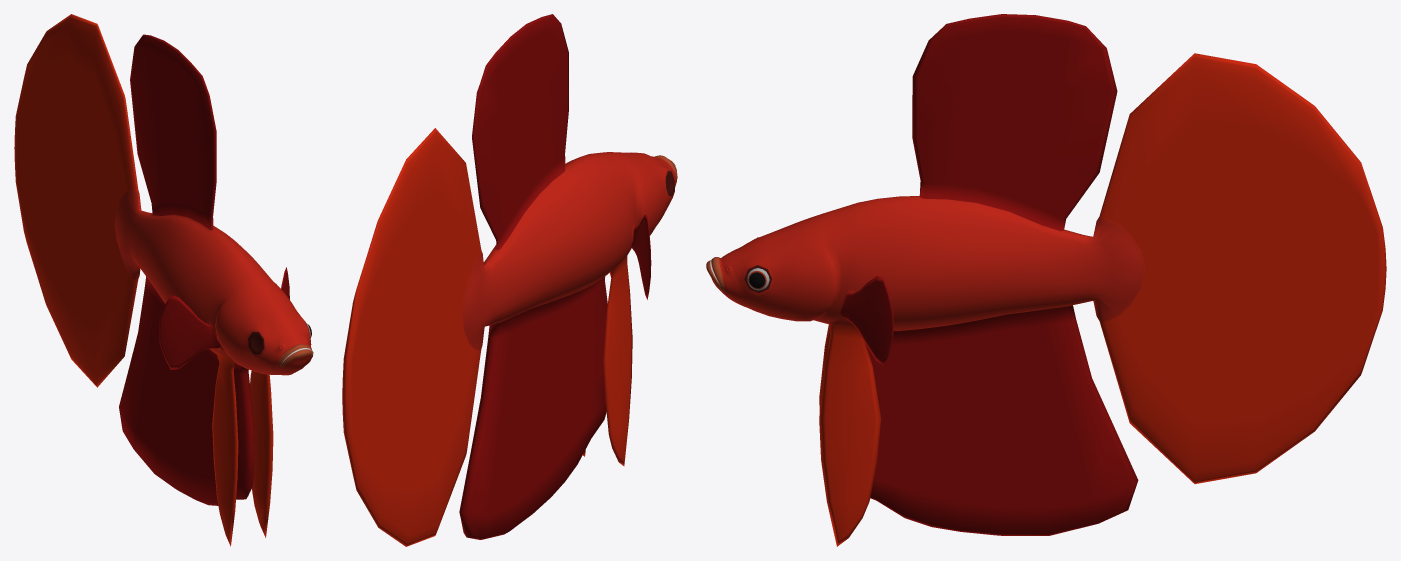
The model's file is betta_fish.obj.
3 renders of one model, left to right at view 1: azimuth 30°, elevation 25°; view 2: azimuth 150°, elevation 25°; view 3: azimuth 270°, elevation 25°, orthographic. The views are drawn at different scales.
Parts seen in each view (by area): view 1: betta_fish; view 2: betta_fish; view 3: betta_fish.
Boxes of the visible parts, <box> form: betta_fish: <box>14,14,313,546</box>; betta_fish: <box>342,14,677,546</box>; betta_fish: <box>706,14,1386,546</box>.
Bounding box in the file's own units: 0.0328 × 0.1057 × 0.1247.
